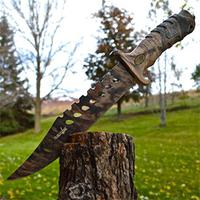knife: (3, 7, 195, 183)
